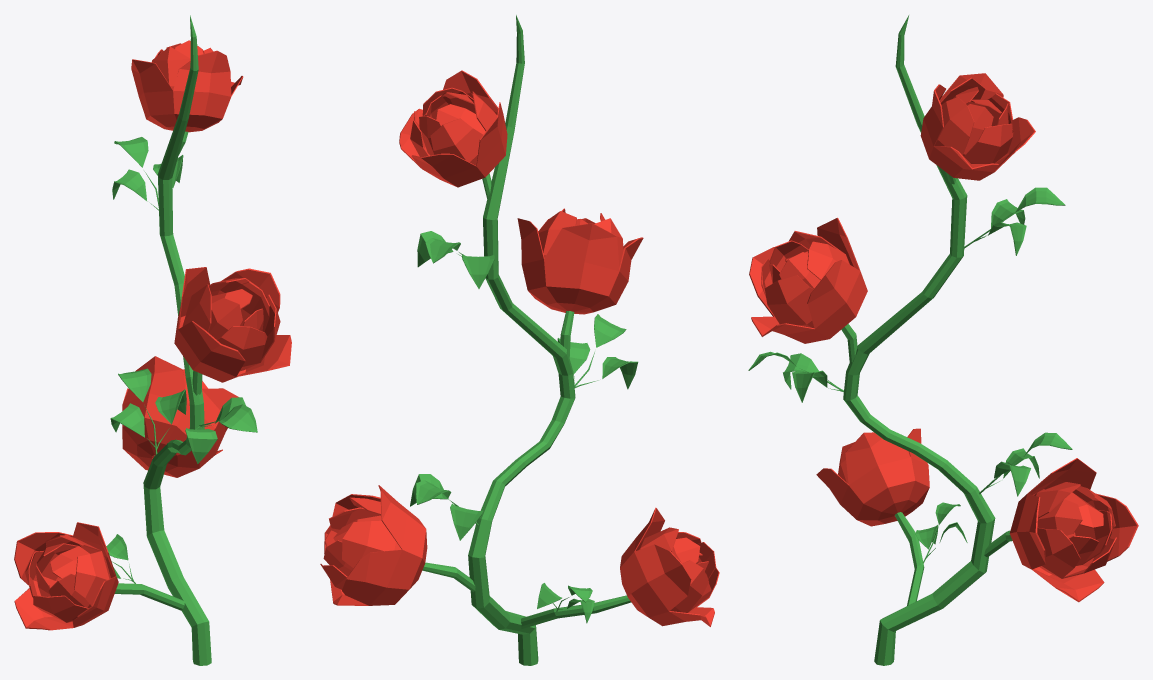
File: Rose bush.glb
The picture shows the model from 3 angles, left to right: view 1: azimuth 30°, elevation 25°; view 2: azimuth 150°, elevation 25°; view 3: azimuth 270°, elevation 25°; orthographic projection. The views are drawn at different scales.
Parts seen in each view (by area): view 1: Rose_bush_Circle.006; view 2: Rose_bush_Circle.006; view 3: Rose_bush_Circle.006.
Boxes of the visible parts, x1,y1,x2,y2 form: Rose_bush_Circle.006: [14, 15, 291, 665]; Rose_bush_Circle.006: [320, 15, 719, 665]; Rose_bush_Circle.006: [748, 15, 1138, 665].
Bounding box in the file's own units: 6.97 × 14.56 × 7.96.
